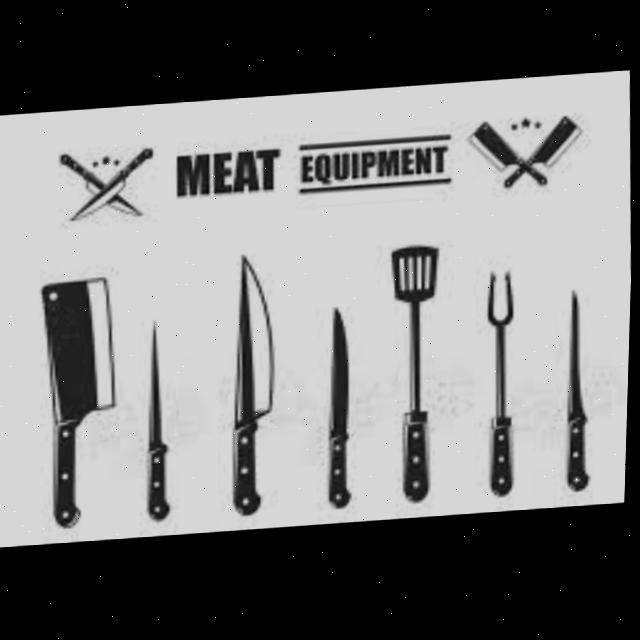knife: (36, 274, 124, 527), (225, 252, 281, 517), (54, 146, 144, 229), (74, 145, 170, 222), (323, 305, 357, 508), (562, 290, 596, 493), (143, 317, 176, 520), (467, 118, 549, 192), (501, 117, 581, 190)
